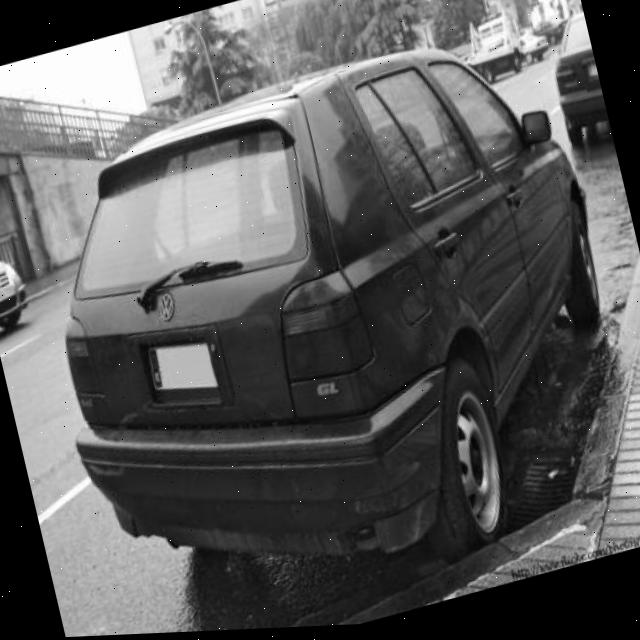car: (10, 8, 640, 640)
